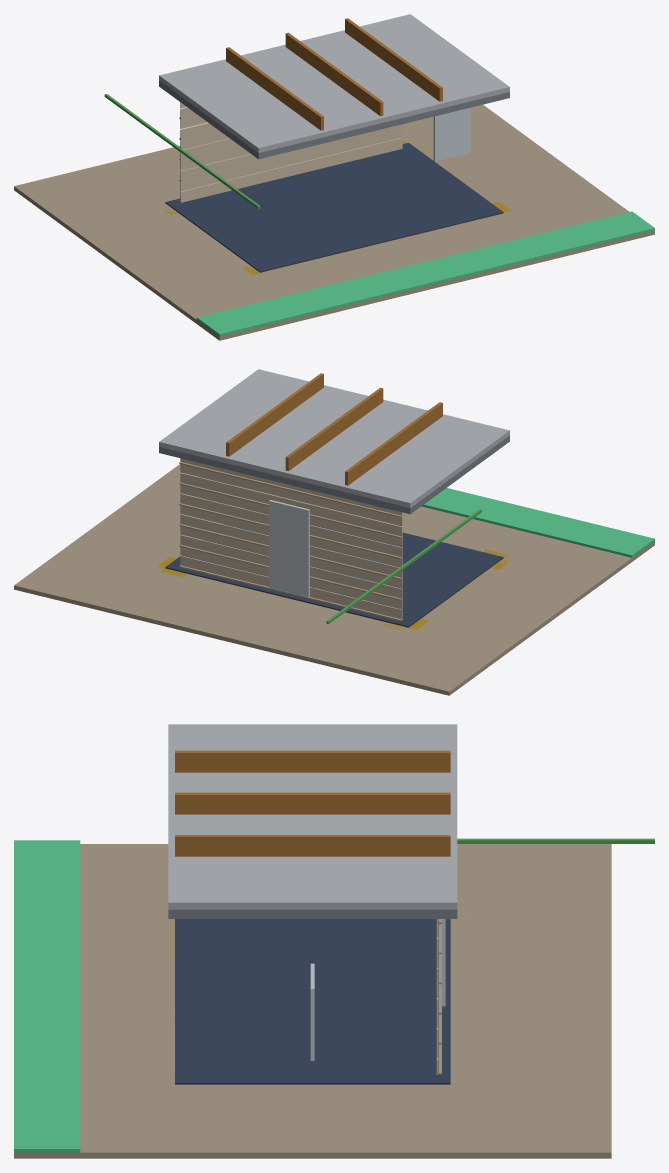
Rendered from stage_11_finishing.glb.
3 views of the same model, one above another, from view 1: azimuth 30°, elevation 25°; view 2: azimuth 150°, elevation 25°; view 3: azimuth 270°, elevation 25° (orthographic). The views are drawn at different scales.
Visible parts, largest first — view 1: world; view 2: world; view 3: world.
Boxes of the visible parts, left/top/right/bottom form: world: left=14, top=14, right=654, bottom=340; world: left=14, top=369, right=654, bottom=695; world: left=14, top=724, right=654, bottom=1158.
Size of the model in its own units: 11 by 4.2 by 9.65.
